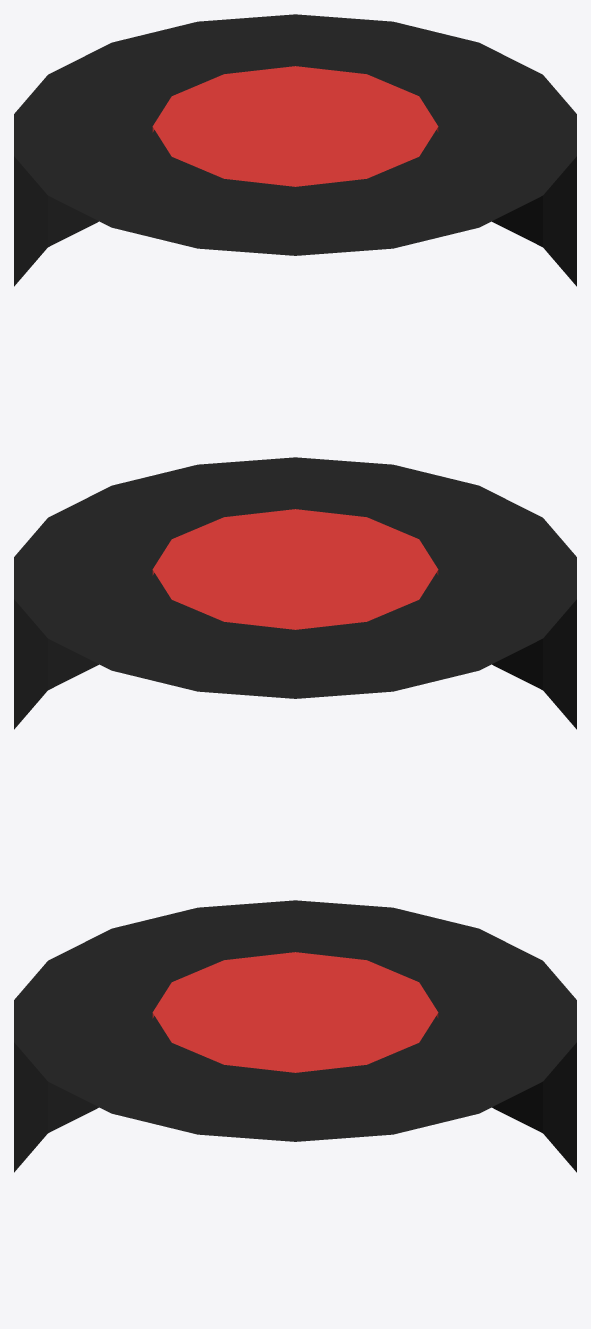
File: puck.glb
3 renders of one model, top to bottom at view 1: azimuth 30°, elevation 25°; view 2: azimuth 150°, elevation 25°; view 3: azimuth 270°, elevation 25°, orthographic.
Parts seen in each view (by area): view 1: puck; view 2: puck; view 3: puck.
Part boxes in pixels (x1=…): puck: x1=14, y1=14, x2=576, y2=286; puck: x1=14, y1=457, x2=576, y2=729; puck: x1=14, y1=900, x2=576, y2=1172.
Bounding box in the file's own units: 0.24 × 0.084 × 0.2364.
